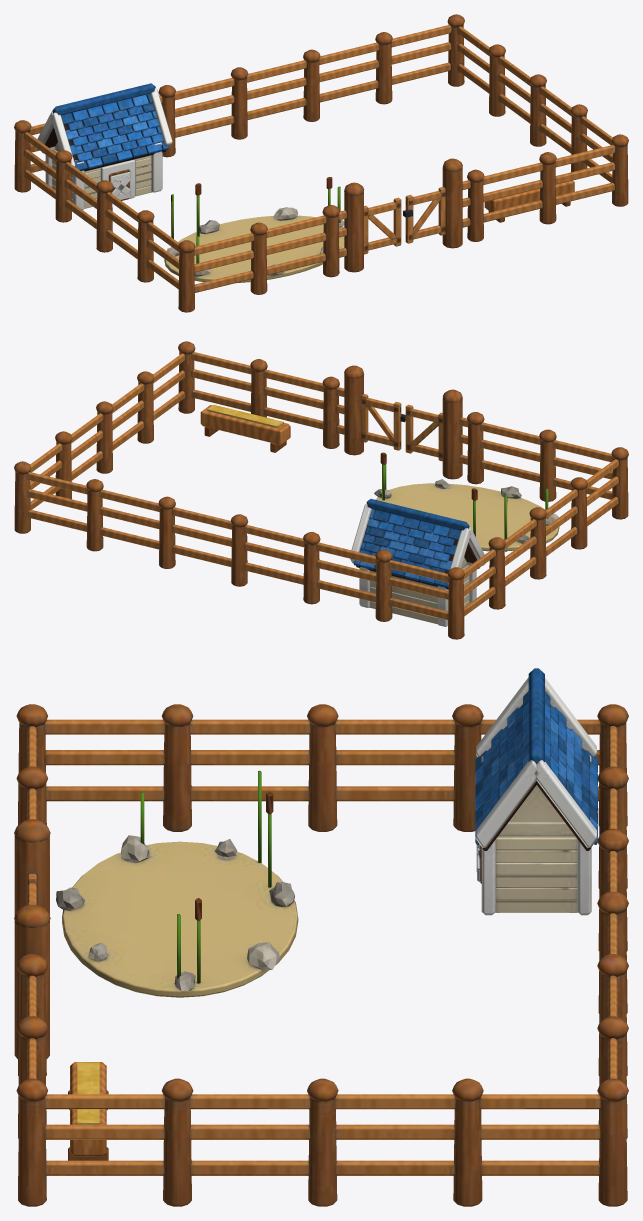
File: muscovy_pond.glb
3 views of the same model, one above another, from view 1: azimuth 30°, elevation 25°; view 2: azimuth 150°, elevation 25°; view 3: azimuth 270°, elevation 25° (orthographic). The views are drawn at different scales.
Visible parts, largest first — view 1: muscovy_pond, gate1, gate0; view 2: muscovy_pond, gate1, gate0; view 3: muscovy_pond.
Boxes of the visible parts, box(x1,y1,x2,y2) form: muscovy_pond: box(14, 14, 628, 312); gate1: box(403, 186, 445, 243); gate0: box(364, 197, 401, 254); muscovy_pond: box(14, 341, 628, 639); gate1: box(361, 393, 405, 450); gate0: box(405, 404, 442, 461); muscovy_pond: box(14, 668, 628, 1206).
Bounding box in the file's own units: 3 × 0.615 × 2.01.
Materials: 1 (1 with a texture image).
